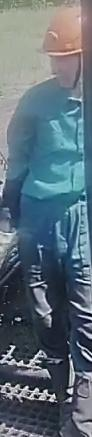gloves: (0, 217, 17, 273)
helmet: (36, 8, 83, 63)
vest: (5, 76, 88, 214)
